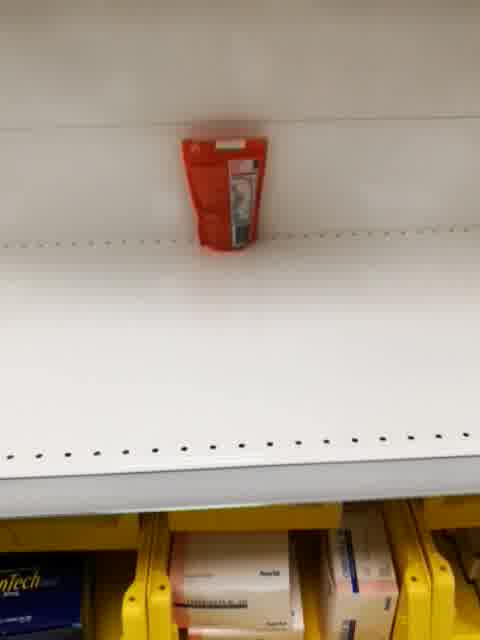whitechia: (177, 134, 271, 254)
